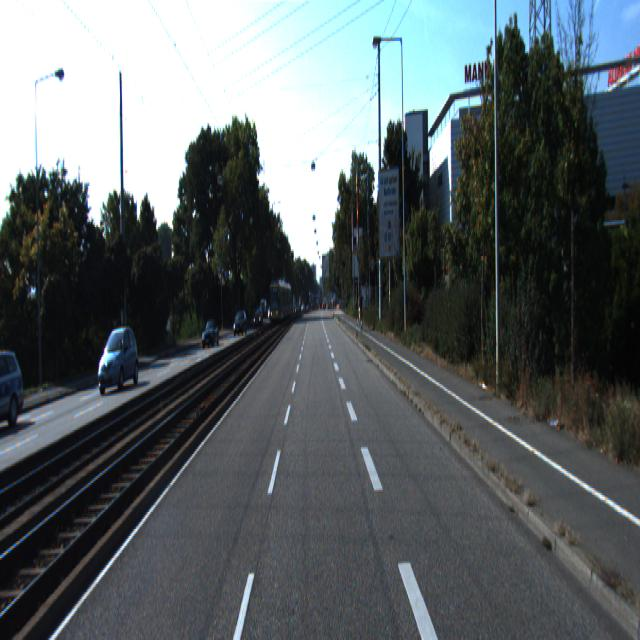Car: (96, 328, 141, 399), (0, 338, 30, 437), (200, 319, 218, 350)
